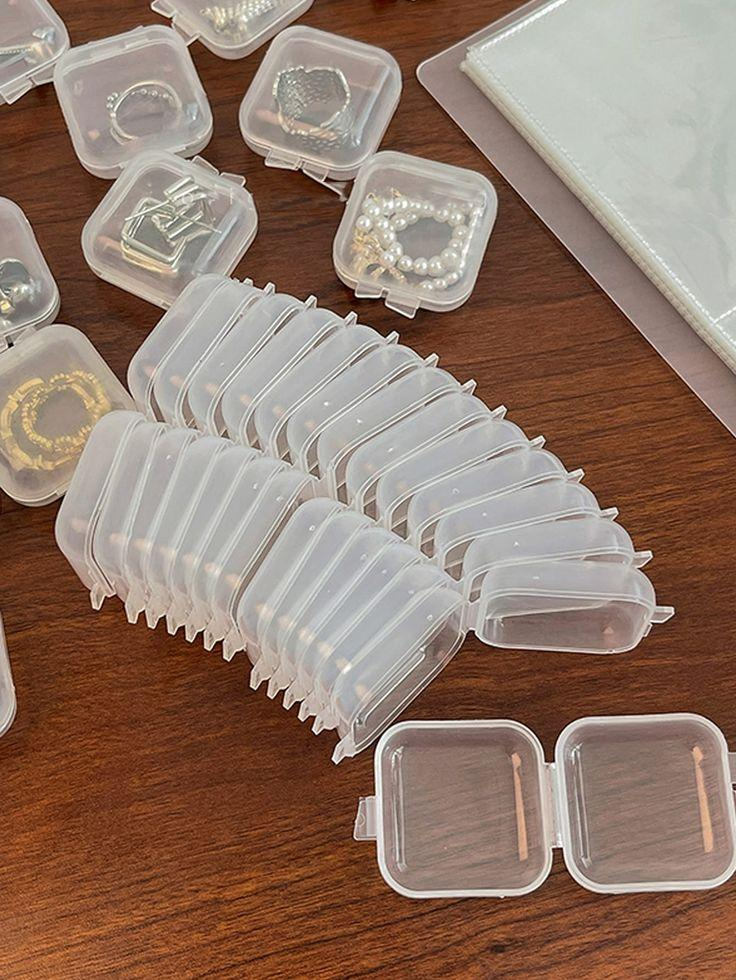PP: (50, 264, 681, 770), (350, 710, 736, 901), (78, 142, 264, 317), (328, 144, 504, 323), (233, 17, 417, 188), (50, 21, 221, 185)
